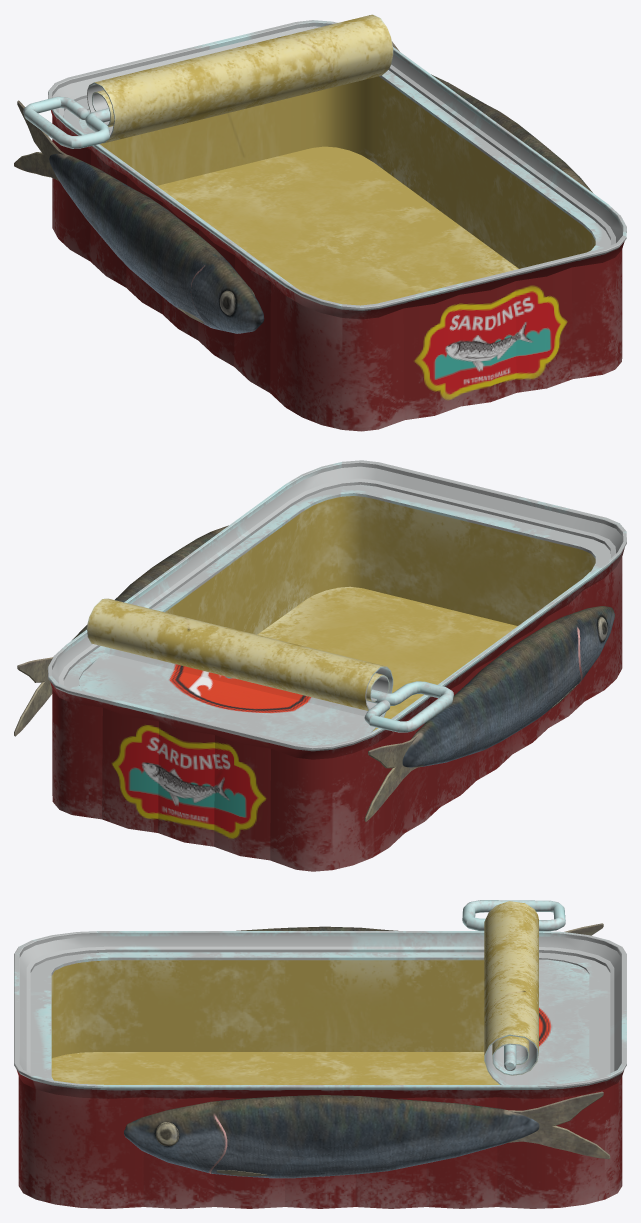
File: Sardine_Car_Last.fbx
3 views of the same model, one above another, from view 1: azimuth 30°, elevation 25°; view 2: azimuth 150°, elevation 25°; view 3: azimuth 270°, elevation 25° (orthographic).
Visible parts, largest first — view 1: Sardine Car; view 2: Sardine Car; view 3: Sardine Car.
Boxes of the visible parts, box(x1,y1,x2,y2) form: Sardine Car: box(14, 14, 626, 431); Sardine Car: box(14, 460, 626, 871); Sardine Car: box(14, 900, 626, 1208).
Bounding box in the file's own units: 185 × 75.29 × 254.
